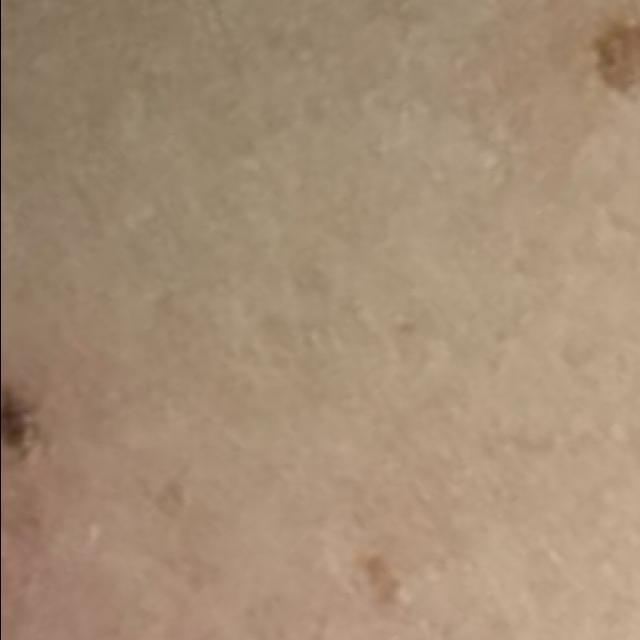wart: (344, 528, 446, 636), (1, 374, 58, 476), (590, 14, 640, 108)
